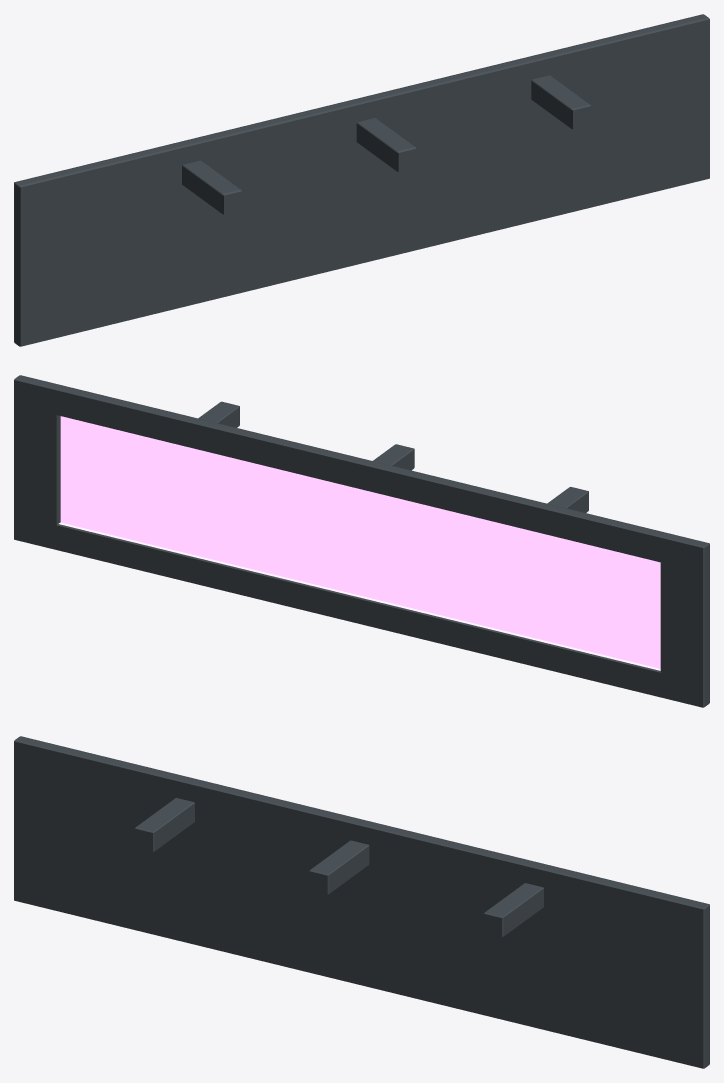
Rendered from sign1.fbx.
3 views of the same model, one above another, from view 1: azimuth 30°, elevation 25°; view 2: azimuth 150°, elevation 25°; view 3: azimuth 330°, elevation 25° (orthographic).
Parts seen in each view (by area): view 1: Куб.001; view 2: Куб.001; view 3: Куб.001.
Boxes of the visible parts, x1,y1,x2,y2 form: Куб.001: (14,14,709,346); Куб.001: (14,375,709,707); Куб.001: (14,736,709,1068).
Bounding box in the file's own units: 180 × 40 × 21.66.
